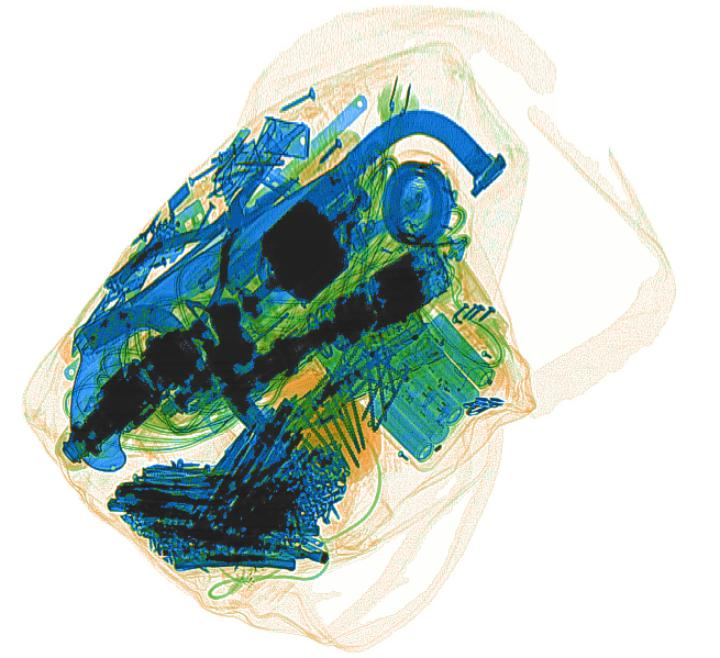battery: (365, 311, 497, 464), (305, 283, 445, 403)
